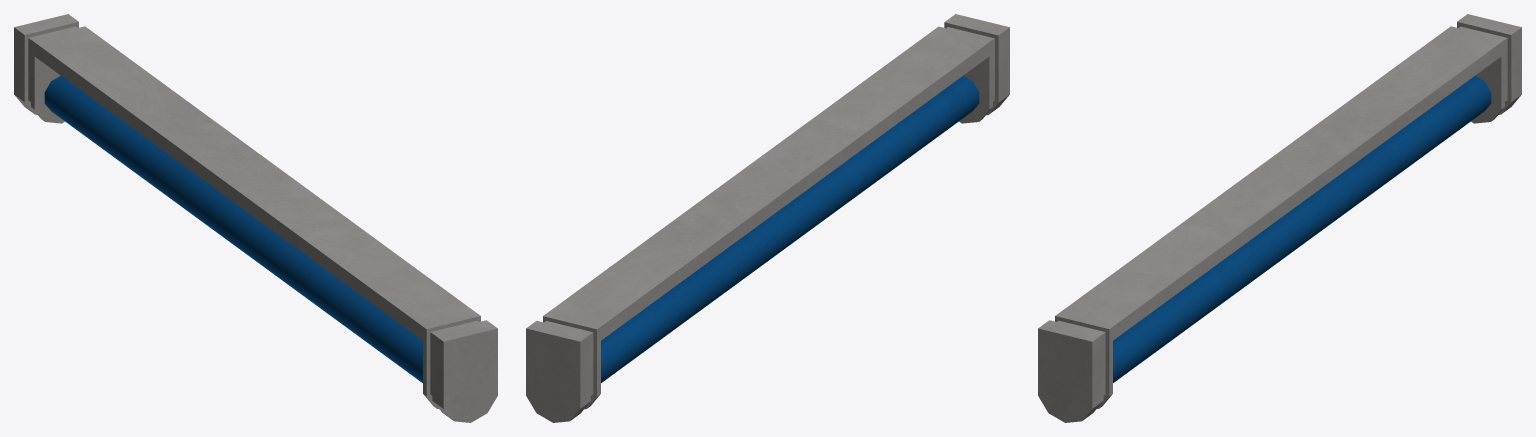
File: Scifi Light Rod 1.FBX
The picture shows the model from 3 angles, left to right: view 1: azimuth 30°, elevation 25°; view 2: azimuth 150°, elevation 25°; view 3: azimuth 330°, elevation 25°; orthographic projection.
Parts seen in each view (by area): view 1: Light Props03; view 2: Light Props03; view 3: Light Props03.
Part boxes in pixels (<box>): Light Props03: <box>14,14,497,422</box>; Light Props03: <box>526,14,1009,422</box>; Light Props03: <box>1038,14,1521,422</box>.
Size of the model in its own units: 7.61 by 11.78 by 104.
